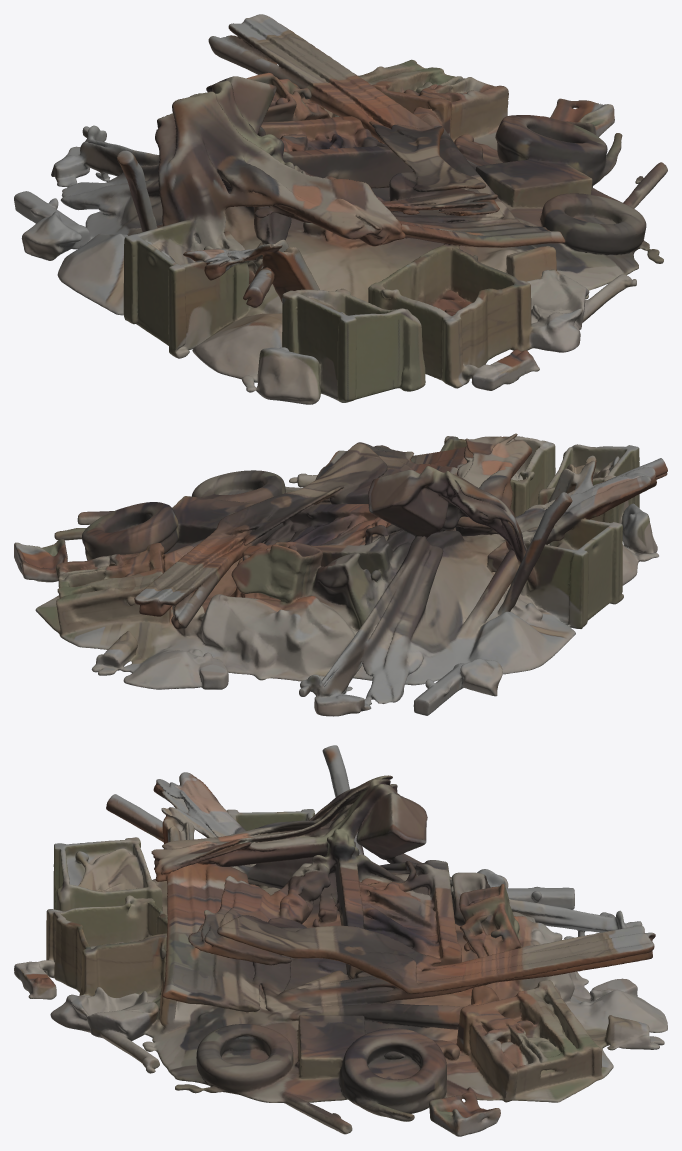
File: ScrapPile3D.fbx
3 views of the same model, one above another, from view 1: azimuth 30°, elevation 25°; view 2: azimuth 150°, elevation 25°; view 3: azimuth 270°, elevation 25° (orthographic). The views are drawn at different scales.
Visible parts, largest first — view 1: tripo_node_6e8c4132; view 2: tripo_node_6e8c4132; view 3: tripo_node_6e8c4132.
Part boxes in pixels (left/top/right/bottom): tripo_node_6e8c4132: left=14, top=14, right=667, bottom=404; tripo_node_6e8c4132: left=14, top=433, right=667, bottom=716; tripo_node_6e8c4132: left=14, top=745, right=667, bottom=1136.
Bounding box in the file's own units: 0.9287 × 0.2892 × 1.
